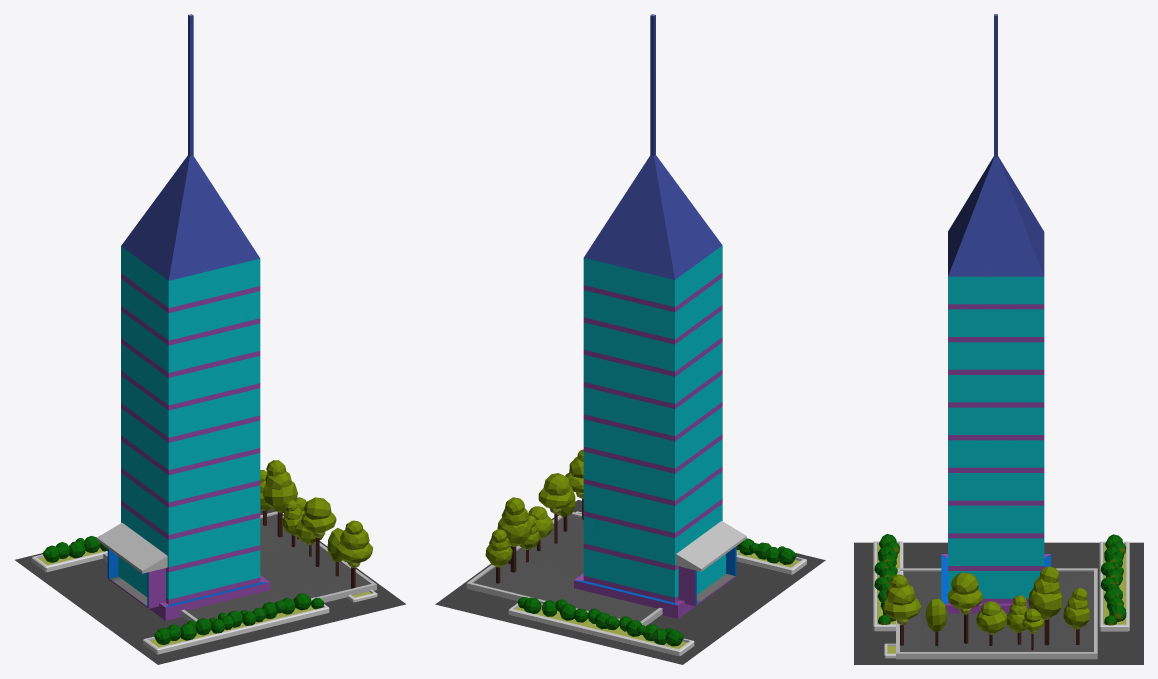
Rendered from skyscraper1.gltf.
3 renders of one model, left to right at view 1: azimuth 30°, elevation 25°; view 2: azimuth 150°, elevation 25°; view 3: azimuth 270°, elevation 25°, orthographic.
Visible parts, largest first — view 1: Skyscraper_2.001, Plane.001, Floor_4_9.001, Bushes_3_16.001, Bed_17.001, Tree_3_1_23.001, Tree_3_28_7.001, Tree_3_4_14.001, Bushes_3_15.001, Bed_16.001; view 2: Skyscraper_2.001, Plane.001, Floor_4_9.001, Bushes_3_15.001, Bed_16.001, Tree_3_1_23.001, Tree_3_4_14.001, Bushes_3_16.001, Tree_3_7_13_2.001, Bed_17.001, Tree_3_28_7.001; view 3: Skyscraper_2.001, Plane.001, Floor_4_9.001, Bushes_3_15.001, Tree_3_1_23.001, Tree_3_28_7.001, Bed_16.001, Bushes_3_16.001, Tree_3_4_14.001, Tree_3_7_13_2.001, Bed_17.001, Tree_3_6_12.001 (+3 smaller).
Part boxes in pixels (<box>): Skyscraper_2.001: <box>97,14,270,620</box>; Plane.001: <box>15,508,405,664</box>; Floor_4_9.001: <box>103,511,376,621</box>; Bushes_3_16.001: <box>154,593,323,644</box>; Bed_17.001: <box>143,597,329,654</box>; Tree_3_1_23.001: <box>262,460,297,537</box>; Tree_3_28_7.001: <box>335,520,372,588</box>; Tree_3_4_14.001: <box>301,497,336,566</box>; Bushes_3_15.001: <box>43,536,107,562</box>; Bed_16.001: <box>31,548,107,572</box>; Skyscraper_2.001: <box>574,14,746,618</box>; Plane.001: <box>435,500,825,664</box>; Floor_4_9.001: <box>466,512,739,626</box>; Bushes_3_15.001: <box>517,597,683,646</box>; Bed_16.001: <box>508,603,694,656</box>; Tree_3_1_23.001: <box>497,497,531,572</box>; Tree_3_4_14.001: <box>538,473,573,543</box>; Bushes_3_16.001: <box>736,538,796,564</box>; Tree_3_7_13_2.001: <box>485,529,512,583</box>; Bed_17.001: <box>736,550,806,574</box>; Tree_3_28_7.001: <box>565,449,583,519</box>; Skyscraper_2.001: <box>941,14,1050,613</box>; Plane.001: <box>854,542,1143,664</box>; Floor_4_9.001: <box>896,568,1097,659</box>; Bushes_3_15.001: <box>1100,534,1126,625</box>; Tree_3_1_23.001: <box>1028,566,1062,645</box>; Tree_3_28_7.001: <box>883,574,921,645</box>; Bed_16.001: <box>1099,541,1129,631</box>; Bushes_3_16.001: <box>874,534,899,624</box>; Tree_3_4_14.001: <box>947,572,982,643</box>; Tree_3_7_13_2.001: <box>1063,587,1089,644</box>; Bed_17.001: <box>873,541,903,631</box>; Tree_3_6_12.001: <box>976,601,1007,645</box>.
Bounding box in the file's own units: 20 × 44.99 × 20.
2 materials, 1 textured.
